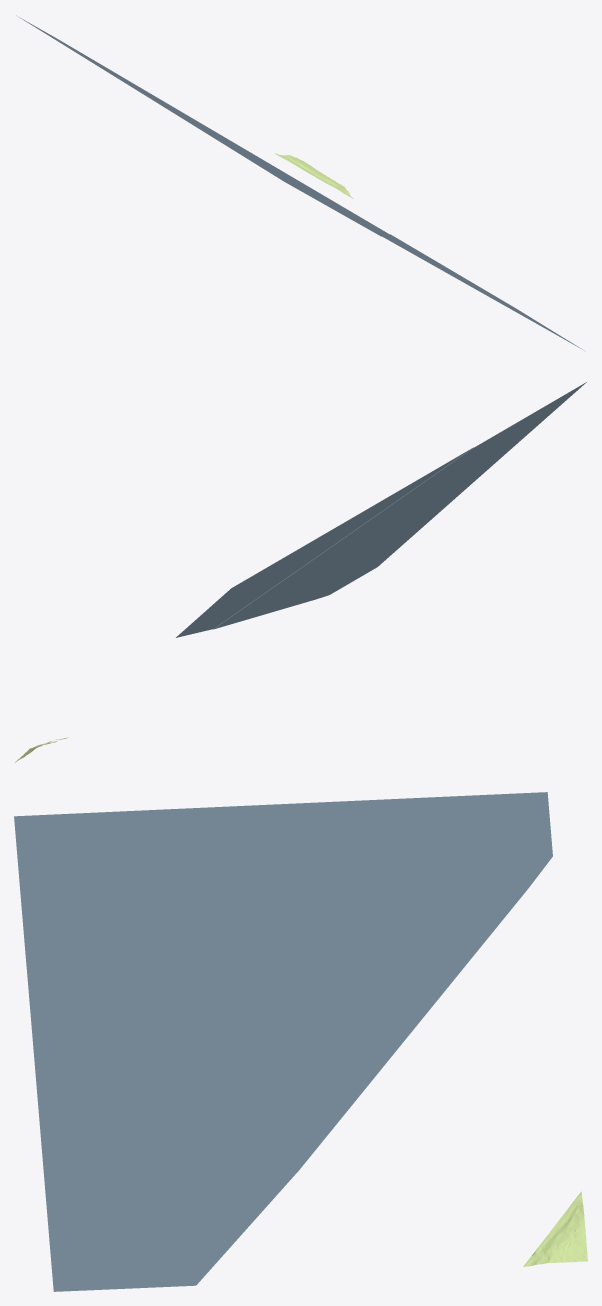
3 renders of one model, top to bottom at view 1: azimuth 30°, elevation 25°; view 2: azimuth 150°, elevation 25°; view 3: azimuth 270°, elevation 25°, orthographic. The views are drawn at different scales.
Size of the model in its own units: 490 by 350 by 602.
